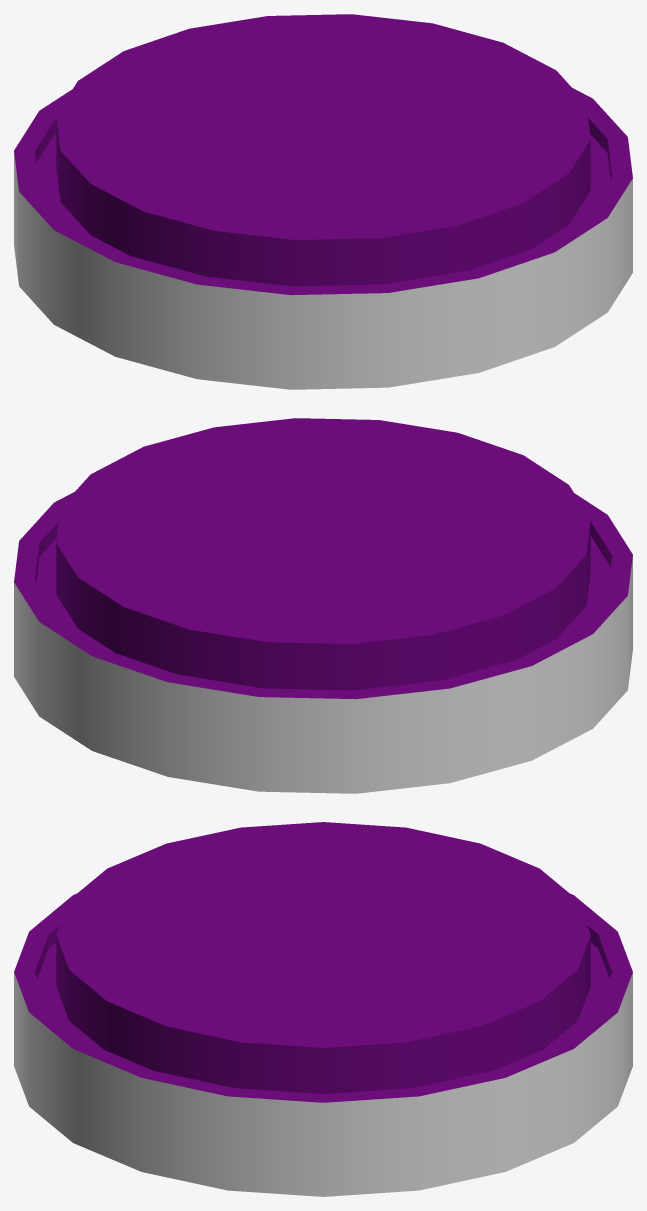
Rendered from cmos.fbx.
3 renders of one model, top to bottom at view 1: azimuth 30°, elevation 25°; view 2: azimuth 150°, elevation 25°; view 3: azimuth 270°, elevation 25°, orthographic.
Parts seen in each view (by area): view 1: cmos; view 2: cmos; view 3: cmos.
Part boxes in pixels (x1=…): cmos: x1=14, y1=14, x2=632, y2=389; cmos: x1=14, y1=418, x2=632, y2=793; cmos: x1=14, y1=822, x2=632, y2=1196.
Bounding box in the file's own units: 3.14 × 0.7335 × 3.14.
